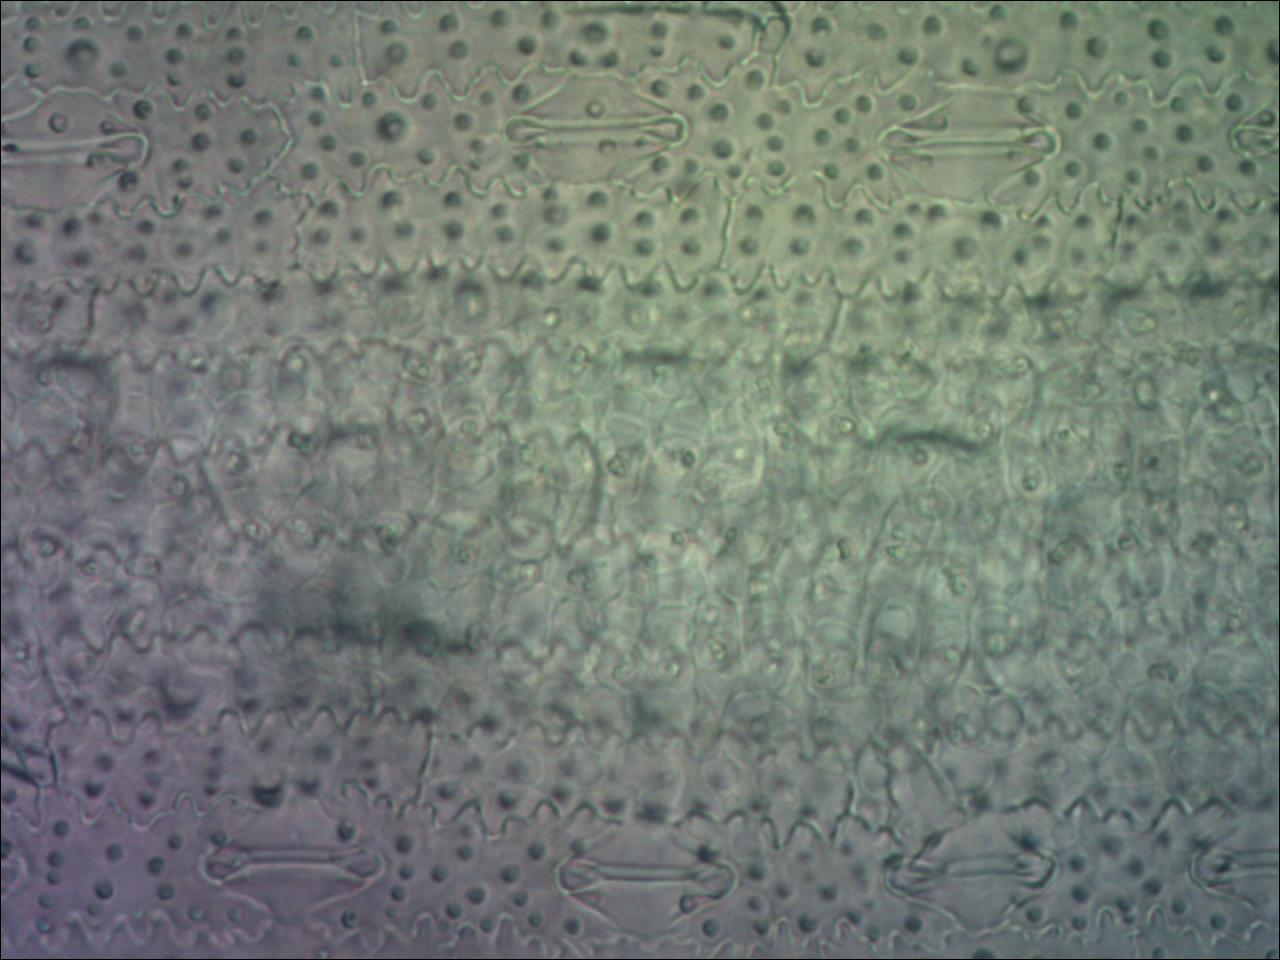stoma: (197, 794, 393, 928), (494, 66, 691, 197), (553, 807, 745, 941), (867, 82, 1062, 209), (875, 814, 1066, 930), (1, 86, 155, 211), (1185, 809, 1280, 908), (1226, 77, 1280, 200)
